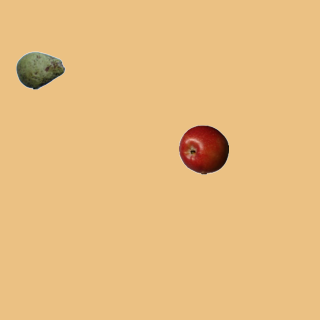Apple Braeburn: (178, 124, 228, 174)
Pear Stone: (15, 45, 65, 95)
